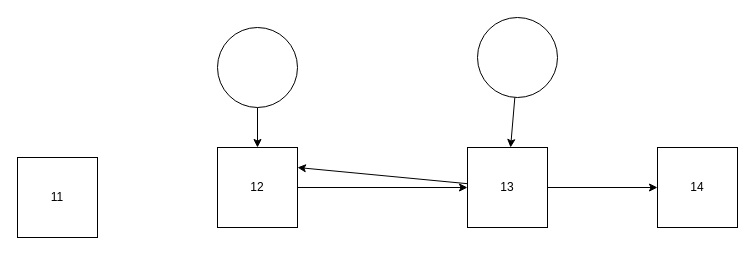
Some shapes in this 755 by 255 pixel diagram are drawn without their labels. Here are the shapes that lost their labels. From the top down, the centre of each, then its label:
the point at 257,67: Head
the point at 517,57: Tail
